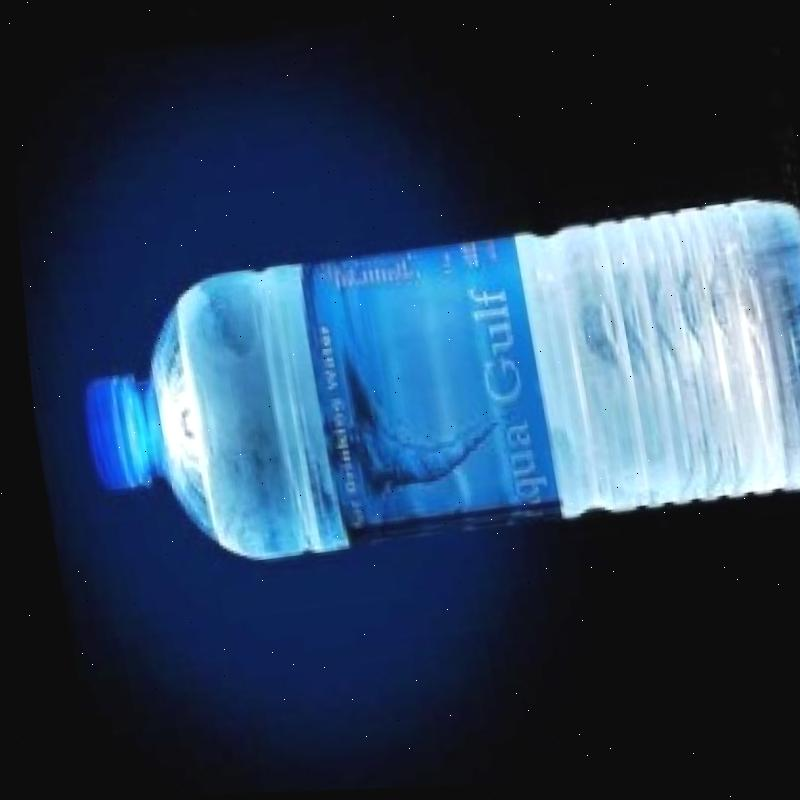botella: (52, 196, 800, 586)
